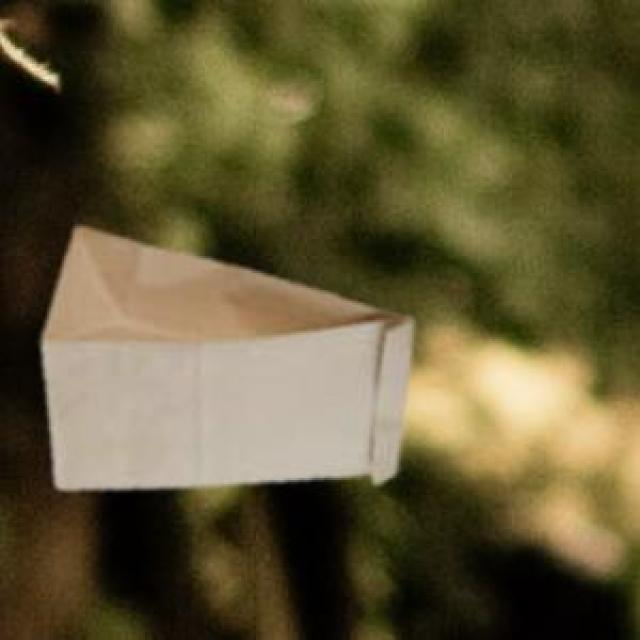paper: (38, 224, 408, 484)
